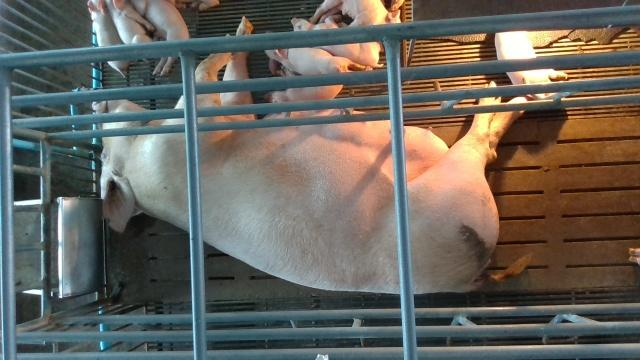piglet: (492, 31, 567, 101), (292, 17, 385, 68), (130, 0, 189, 76), (87, 0, 130, 78), (106, 0, 158, 62), (263, 47, 371, 76), (310, 0, 403, 27), (264, 83, 342, 102)
sow-sleep-lactate: (94, 18, 528, 294)
